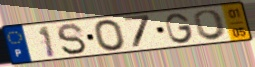1: (36, 25, 59, 58)
7: (122, 14, 153, 51)
G: (164, 12, 196, 45)
O: (192, 8, 230, 42), (92, 18, 128, 53)
S: (55, 22, 89, 56)
